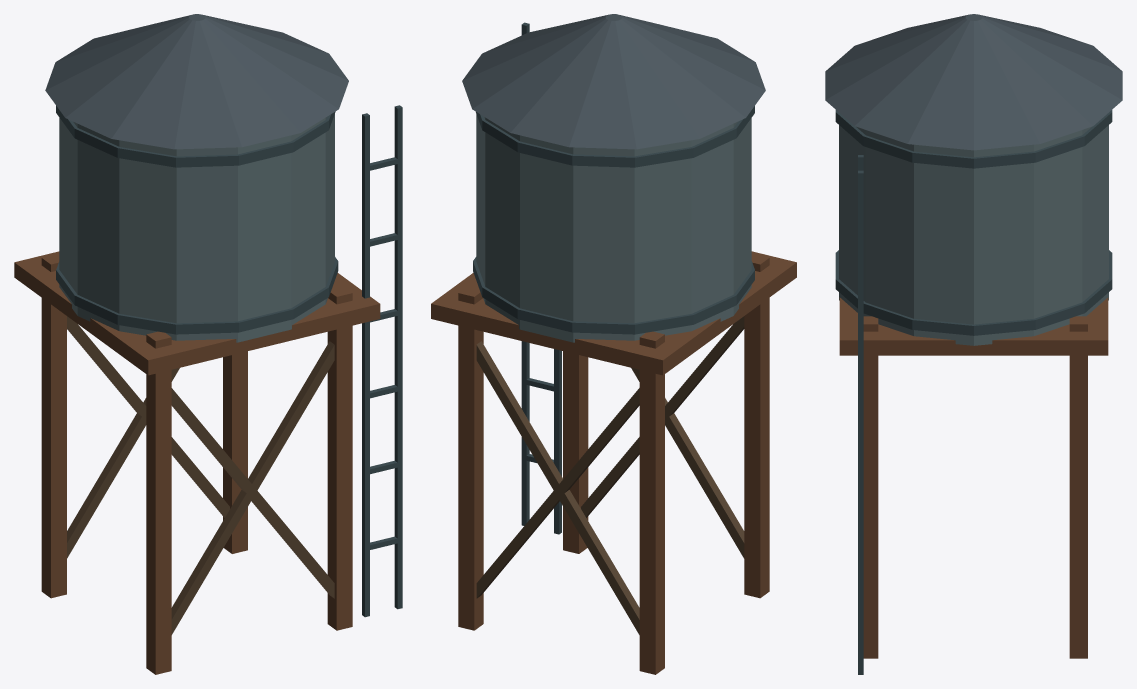
Rendered from Building_Settlement_CommunityWaterTower_001_LOD1.glb.
The picture shows the model from 3 angles, left to right: view 1: azimuth 30°, elevation 25°; view 2: azimuth 150°, elevation 25°; view 3: azimuth 270°, elevation 25°; orthographic projection.
Visible parts, largest first — view 1: Building_Settlement_CommunityWaterTower_001_LOD1; view 2: Building_Settlement_CommunityWaterTower_001_LOD1; view 3: Building_Settlement_CommunityWaterTower_001_LOD1.
Boxes of the visible parts, left/top/right/bottom form: Building_Settlement_CommunityWaterTower_001_LOD1: left=14, top=14, right=402, bottom=674; Building_Settlement_CommunityWaterTower_001_LOD1: left=431, top=14, right=796, bottom=674; Building_Settlement_CommunityWaterTower_001_LOD1: left=825, top=14, right=1122, bottom=674.
Bounding box in the file's own units: 3.86 × 7.8 × 3.55.
